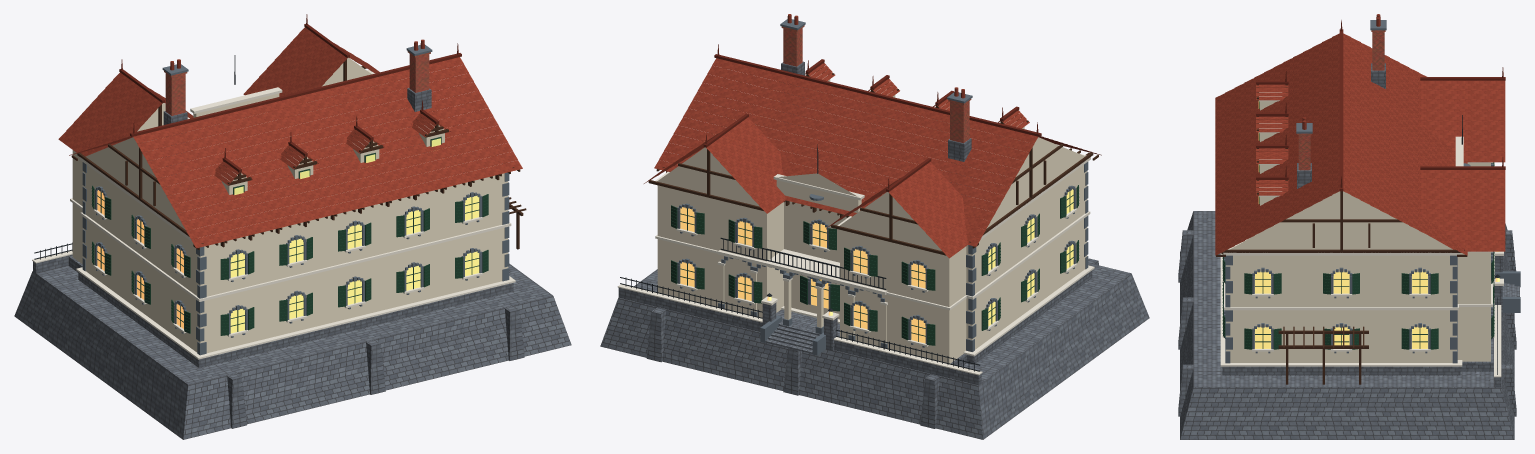
The model's file is fv_hv_08_vien_pasteur_dalat_main.glb.
The picture shows the model from 3 angles, left to right: view 1: azimuth 30°, elevation 25°; view 2: azimuth 150°, elevation 25°; view 3: azimuth 270°, elevation 25°; orthographic projection.
Parts seen in each view (by area): view 1: Normandy_Brittany_Layered_Roof, Foundation_Skirt_Neg3p5m, Villa_Stucco_Walls, Molded_Cornices_And_Sills, PineGreen_Louvered_Shutters, Stone_Quoins_And_Arches, Warm_Night_Windows_20h00_Blend, Exposed_Timber_Trusses_And_Rafters, Roof_Ridges_Caps_And_Finials, Brick_Chimney_Stacks; view 2: Foundation_Skirt_Neg3p5m, Villa_Stucco_Walls, Normandy_Brittany_Layered_Roof, Molded_Cornices_And_Sills, Stone_Quoins_And_Arches, PineGreen_Louvered_Shutters, Warm_Night_Windows_20h00_Blend, Exposed_Timber_Trusses_And_Rafters, Roof_Ridges_Caps_And_Finials, Wrought_Iron_Balustrades_And_Gate, Brick_Chimney_Stacks; view 3: Normandy_Brittany_Layered_Roof, Foundation_Skirt_Neg3p5m, Villa_Stucco_Walls, Molded_Cornices_And_Sills, Stone_Quoins_And_Arches, Exposed_Timber_Trusses_And_Rafters, PineGreen_Louvered_Shutters, Roof_Ridges_Caps_And_Finials, Warm_Night_Windows_20h00_Blend, Brick_Chimney_Stacks.
Boxes of the visible parts, box(x1,y1,x2,y2) form: Normandy_Brittany_Layered_Roof: box(58, 27, 522, 248); Foundation_Skirt_Neg3p5m: box(14, 88, 571, 439); Villa_Stucco_Walls: box(72, 57, 508, 353); Molded_Cornices_And_Sills: box(32, 70, 515, 359); PineGreen_Louvered_Shutters: box(91, 136, 488, 335); Stone_Quoins_And_Arches: box(82, 45, 509, 355); Warm_Night_Windows_20h00_Blend: box(97, 138, 479, 333); Exposed_Timber_Trusses_And_Rafters: box(71, 59, 526, 249); Roof_Ridges_Caps_And_Finials: box(69, 14, 461, 179); Brick_Chimney_Stacks: box(164, 51, 430, 115); Foundation_Skirt_Neg3p5m: box(600, 61, 1149, 439); Villa_Stucco_Walls: box(657, 75, 1087, 363); Normandy_Brittany_Layered_Roof: box(645, 14, 1080, 258); Molded_Cornices_And_Sills: box(617, 72, 1094, 375); Stone_Quoins_And_Arches: box(677, 19, 1088, 355); PineGreen_Louvered_Shutters: box(671, 185, 1079, 345); Warm_Night_Windows_20h00_Blend: box(680, 189, 1073, 343); Exposed_Timber_Trusses_And_Rafters: box(648, 63, 1098, 255); Roof_Ridges_Caps_And_Finials: box(644, 44, 1101, 228); Wrought_Iron_Balustrades_And_Gate: box(620, 144, 980, 371); Brick_Chimney_Stacks: box(781, 25, 971, 143); Normandy_Brittany_Layered_Roof: box(1215, 14, 1505, 255); Foundation_Skirt_Neg3p5m: box(1178, 63, 1519, 439); Villa_Stucco_Walls: box(1226, 101, 1490, 362); Molded_Cornices_And_Sills: box(1220, 92, 1503, 377); Stone_Quoins_And_Arches: box(1223, 20, 1520, 363); Exposed_Timber_Trusses_And_Rafters: box(1216, 84, 1467, 384); PineGreen_Louvered_Shutters: box(1222, 101, 1494, 349); Roof_Ridges_Caps_And_Finials: box(1256, 20, 1505, 191); Warm_Night_Windows_20h00_Blend: box(1255, 101, 1499, 348); Brick_Chimney_Stacks: box(1297, 30, 1385, 170).
Size of the model in its own units: 30.52 by 20.9 by 23.12.
Materials: 12 (3 with a texture image).
